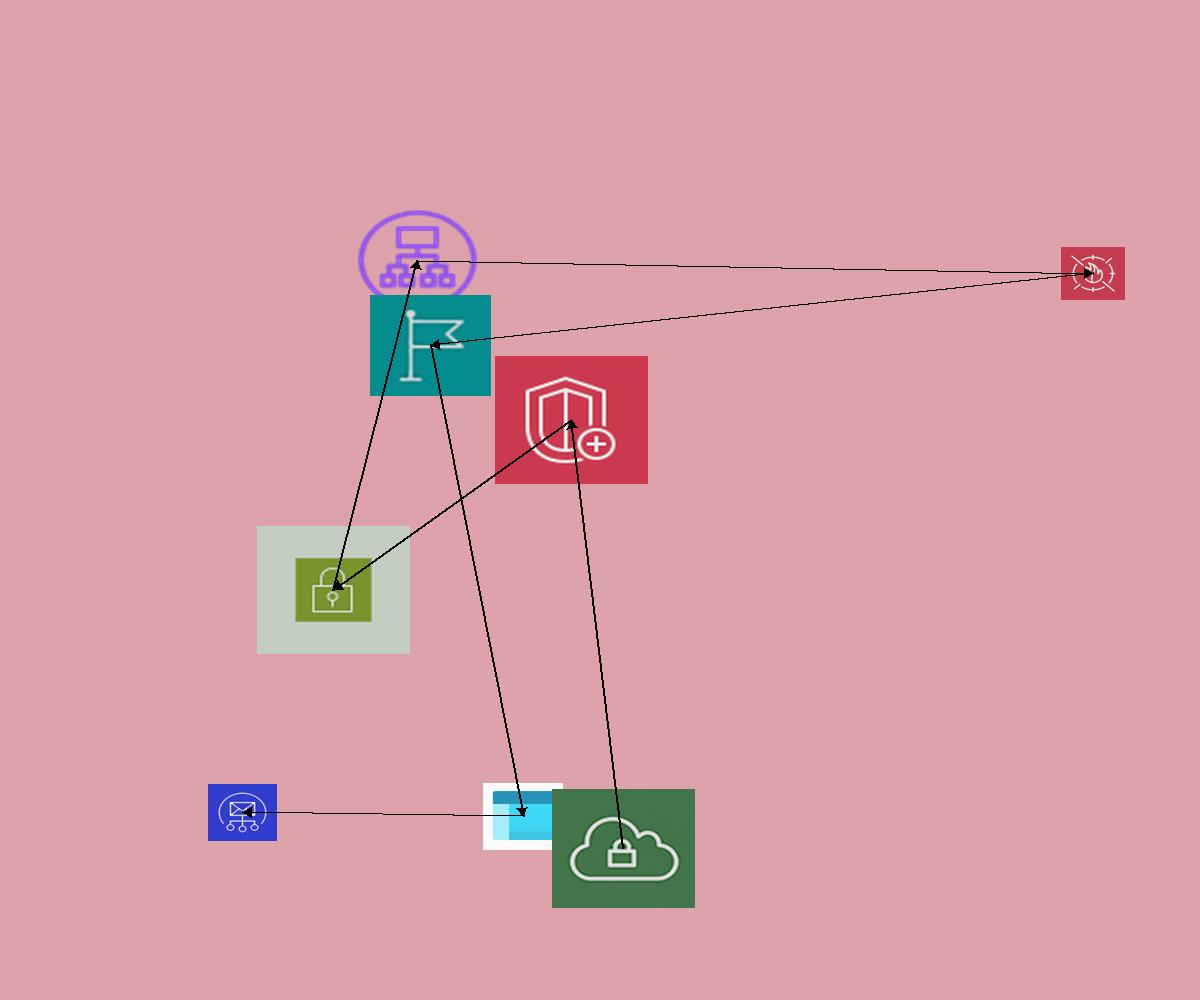AWS-Private_vpc: (552, 789, 695, 908)
AWS-Public-subnet: (257, 526, 410, 654)
AWS-Region: (370, 295, 491, 396)
AWS-Res_Elastic-Load-Balancing_Application-Load-Balancer: (353, 206, 482, 314)
AWS-Shield: (495, 356, 648, 484)
AWS-Simple-Email-Service: (208, 784, 277, 841)
AWS-WAF: (1061, 247, 1125, 300)
Azure_management-portal: (483, 783, 563, 850)
